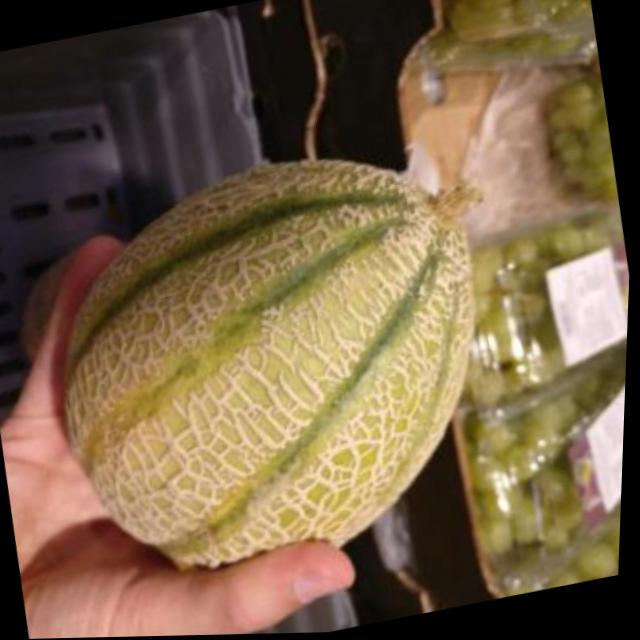Cantaloupe: (24, 129, 519, 598)
